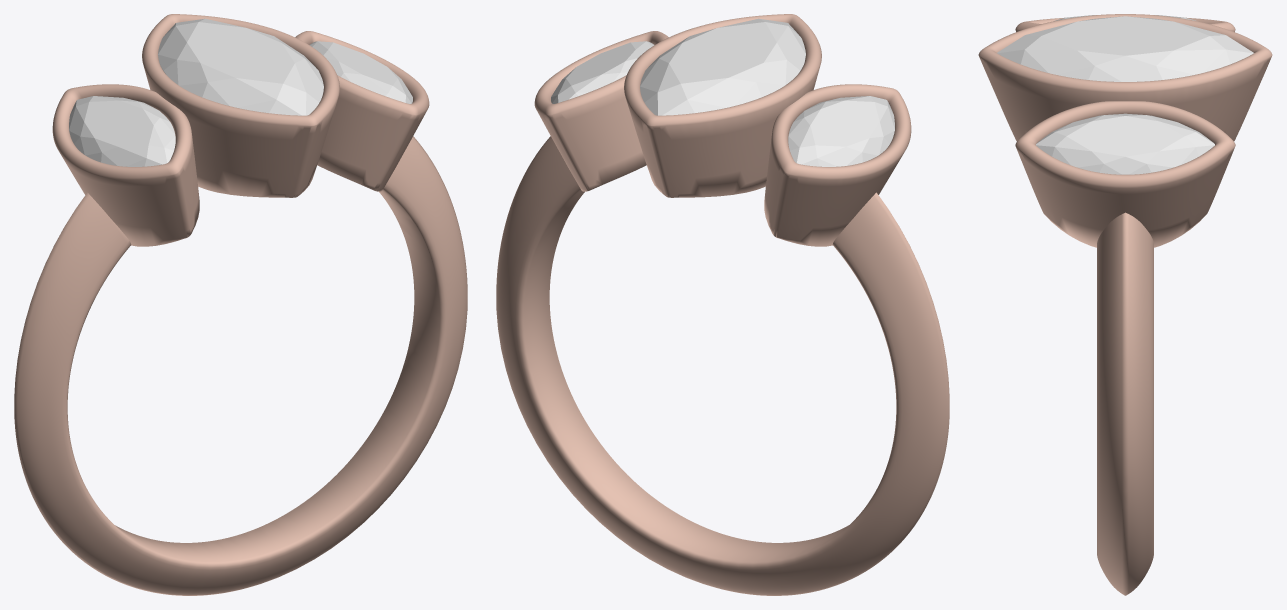
The model's file is diamond-marquise-rosegold-bezelset-knifeedge-3stone.glb.
The picture shows the model from 3 angles, left to right: view 1: azimuth 30°, elevation 25°; view 2: azimuth 150°, elevation 25°; view 3: azimuth 270°, elevation 25°; orthographic projection.
Visible parts, largest first — view 1: metal.002, stone.003, side.007, side.006; view 2: metal.002, stone.003, side.007, side.006; view 3: metal.002, stone.003, side.006.
Boxes of the visible parts, left/top/right/bottom form: metal.002: left=14, top=14, right=467, bottom=595; stone.003: left=158, top=18, right=323, bottom=115; side.007: left=69, top=96, right=175, bottom=166; side.006: left=309, top=41, right=412, bottom=103; metal.002: left=496, top=14, right=949, bottom=595; stone.003: left=640, top=18, right=805, bottom=115; side.007: left=788, top=96, right=894, bottom=166; side.006: left=551, top=41, right=654, bottom=103; metal.002: left=978, top=14, right=1272, bottom=595; stone.003: left=997, top=16, right=1253, bottom=81; side.006: left=1036, top=113, right=1214, bottom=174.
Bounding box in the file's own units: 20.1 × 22.73 × 11.31.
